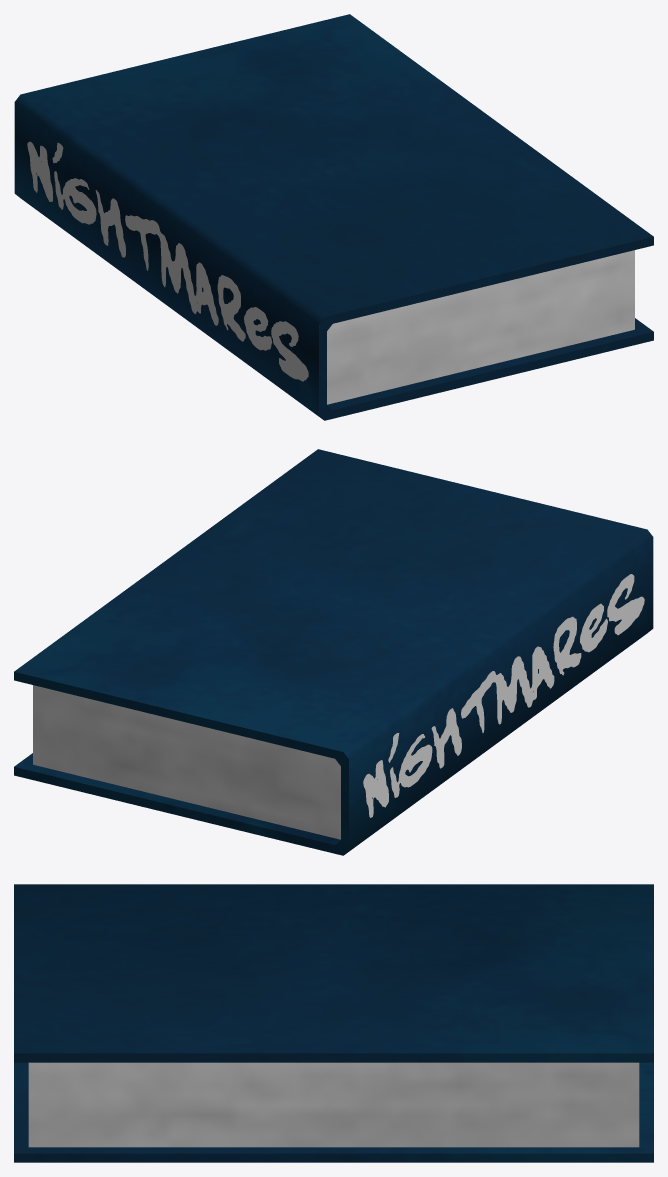
The model's file is Book_ver3.fbx.
3 views of the same model, one above another, from view 1: azimuth 30°, elevation 25°; view 2: azimuth 150°, elevation 25°; view 3: azimuth 270°, elevation 25° (orthographic). The views are drawn at different scales.
Visible parts, largest first — view 1: Book_ver3; view 2: Book_ver3; view 3: Book_ver3.
Boxes of the visible parts, left/top/right/bottom form: Book_ver3: left=14, top=14, right=653, bottom=420; Book_ver3: left=14, top=449, right=653, bottom=855; Book_ver3: left=14, top=884, right=653, bottom=1162.
Bounding box in the file's own units: 99.57 × 29.39 × 156.
